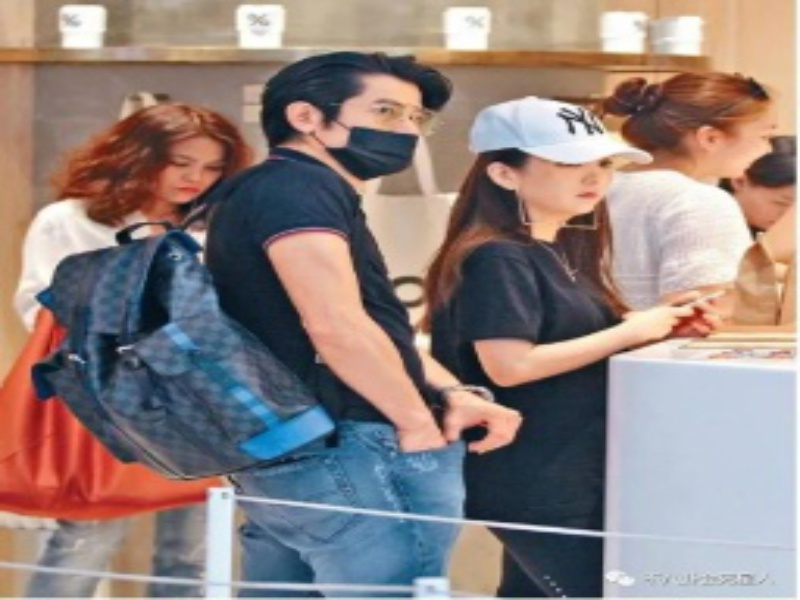ManaoArotava: (305, 39, 443, 191)
TsisyArotava: (518, 100, 620, 241), (130, 100, 238, 227), (705, 67, 788, 200)
